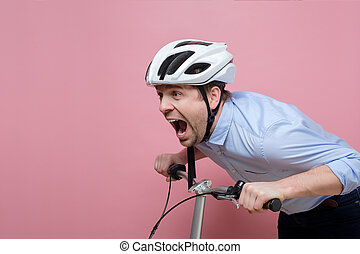helmet: (145, 39, 236, 146)
